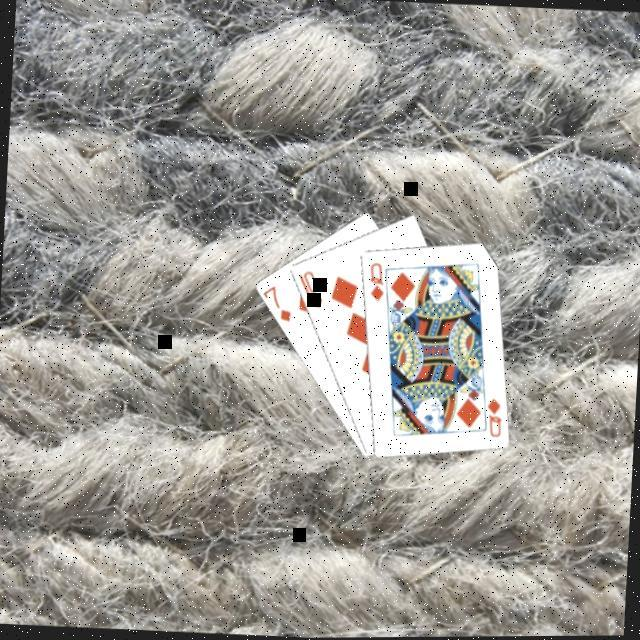10D: (296, 266, 328, 310)
7D: (262, 281, 298, 324)
QD: (366, 258, 389, 304), (484, 394, 507, 439)
